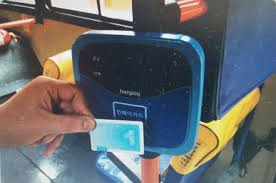terminal: (71, 26, 207, 159)
